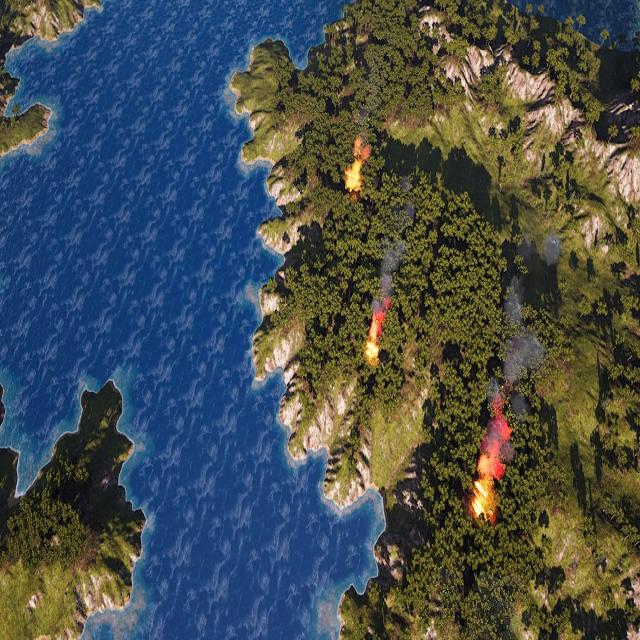fire: (471, 425, 512, 519), (346, 139, 372, 190), (366, 321, 383, 359)
smoke: (476, 236, 559, 474), (370, 177, 415, 330)
